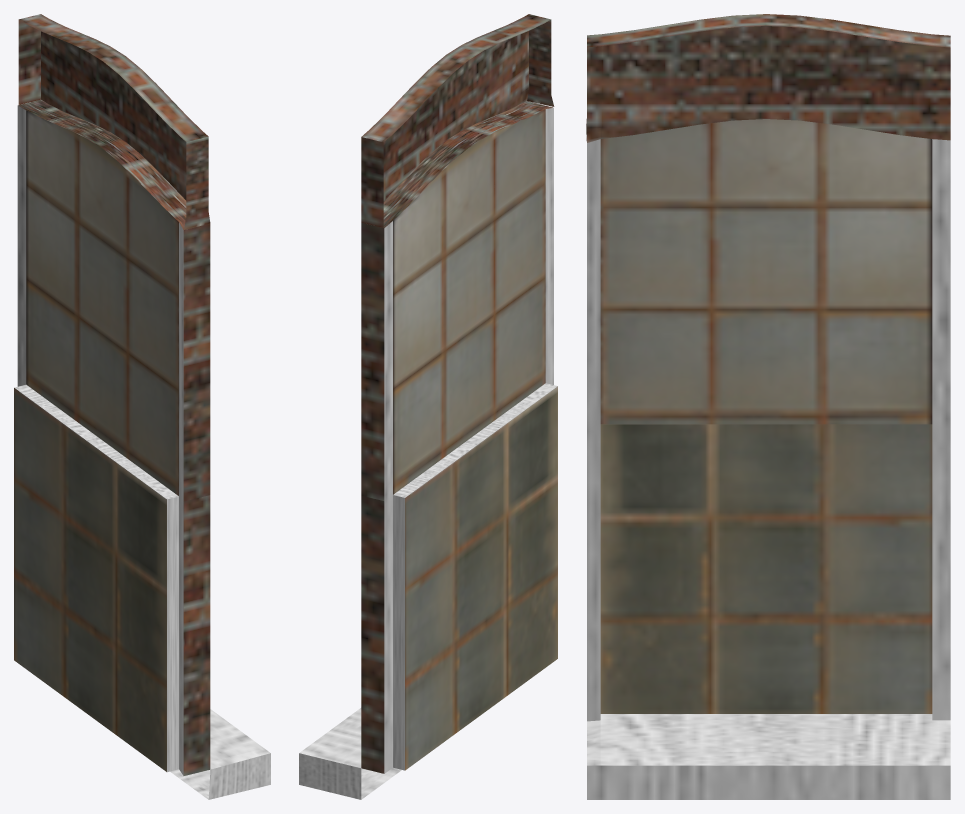
Rendered from Window.fbx.
3 renders of one model, left to right at view 1: azimuth 30°, elevation 25°; view 2: azimuth 150°, elevation 25°; view 3: azimuth 270°, elevation 25°, orthographic. The views are drawn at different scales.
Parts seen in each view (by area): view 1: Cube; view 2: Cube; view 3: Cube.
Part boxes in pixels (x1,y1,x2,y2): Cube: (14, 14, 270, 799); Cube: (299, 14, 557, 799); Cube: (586, 14, 950, 799).
Size of the model in its own units: 67.15 by 450 by 200.
